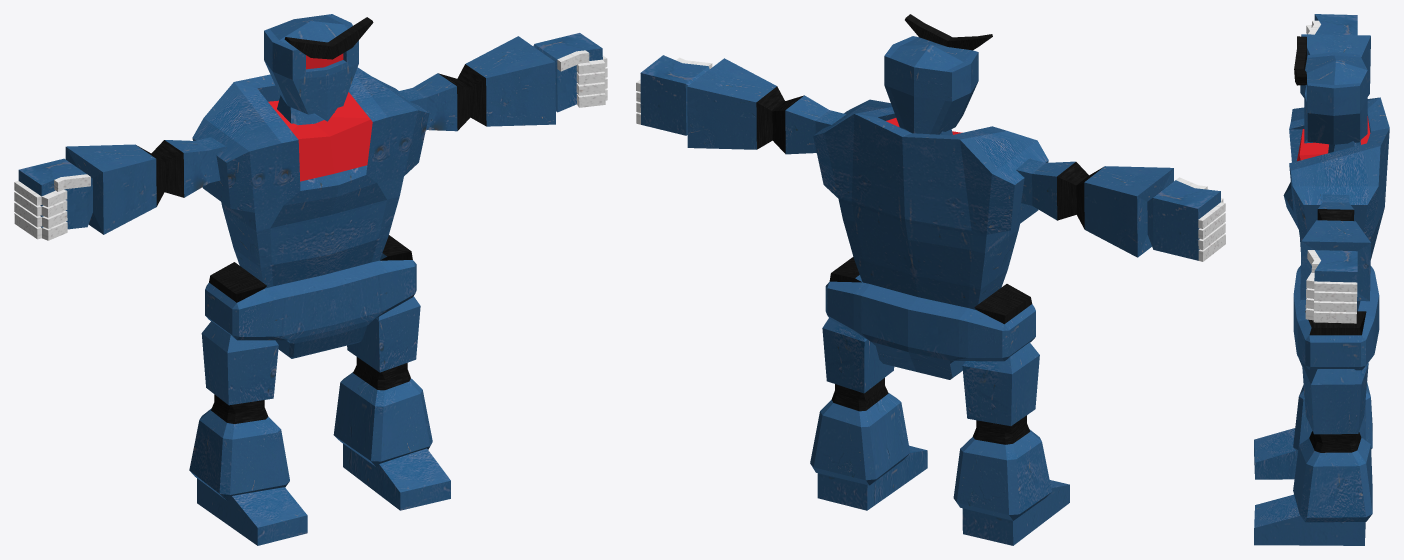
Rendered from bruiserTpose.obj.
The picture shows the model from 3 angles, left to right: view 1: azimuth 30°, elevation 25°; view 2: azimuth 150°, elevation 25°; view 3: azimuth 270°, elevation 25°; orthographic projection. The views are drawn at different scales.
Parts seen in each view (by area): view 1: Cube; view 2: Cube; view 3: Cube.
Part boxes in pixels (x1,y1,x2,y2): Cube: [14, 14, 607, 545]; Cube: [636, 14, 1225, 545]; Cube: [1254, 14, 1389, 545].
Bounding box in the file's own units: 1.8 × 1.44 × 0.3961.
Materials: 4 (4 with a texture image).
